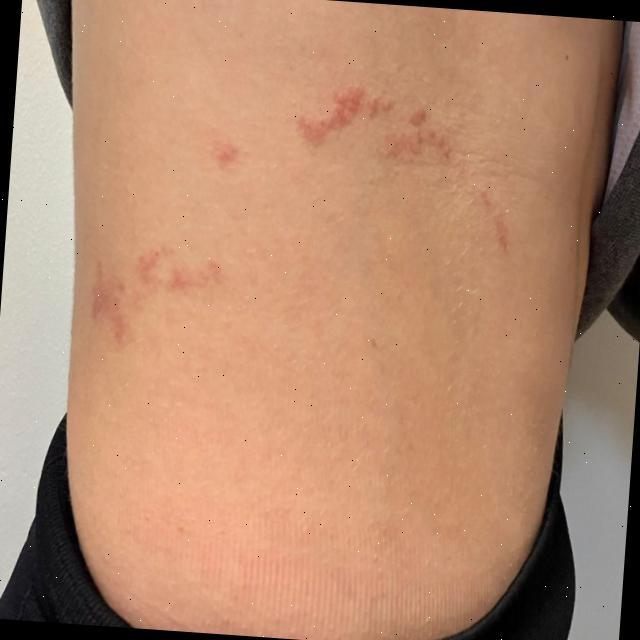Shingles: (296, 82, 516, 259), (80, 245, 222, 347)
